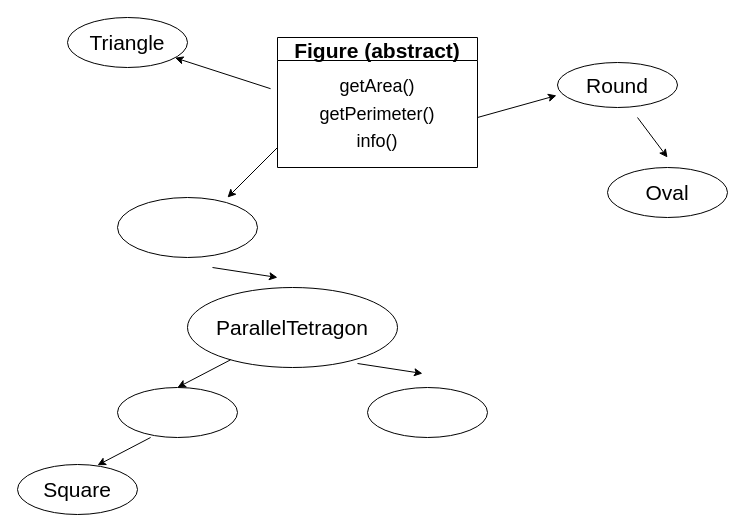
This 745x532 diagram has some shape labels left out. Here are the shapes that lost their labels. From the top down, the box of each, then its label:
(116, 196, 258, 258): Tetragon
(116, 386, 238, 438): Rectangle
(366, 386, 488, 438): Rhombus
